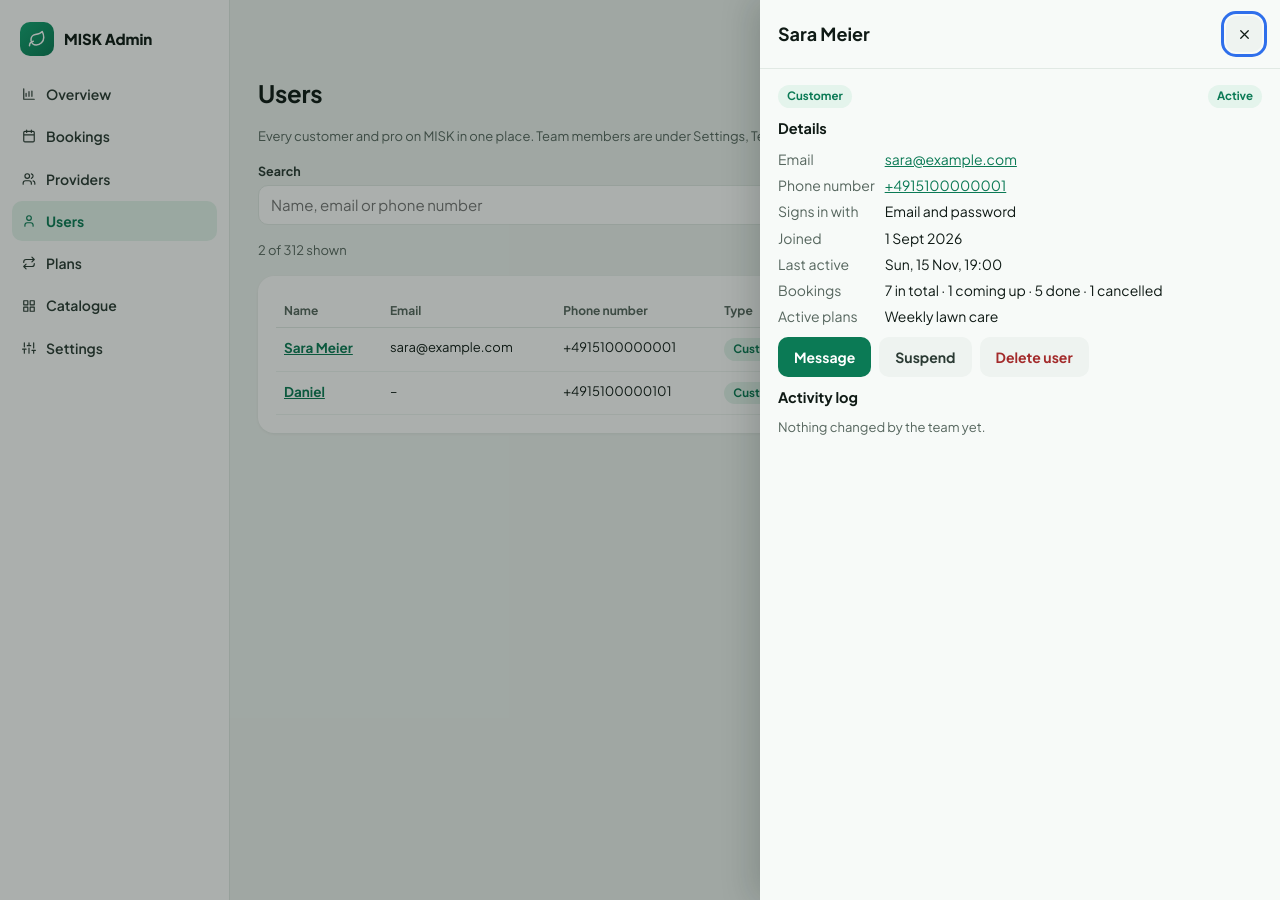
Test: the Users page (D65) › deletes an account only after a confirmation with a reason, and then offers nothing more
The image size is (1280, 900).
Click the button "Delete user".
click(1034, 357)  # box [980,337,1089,377]
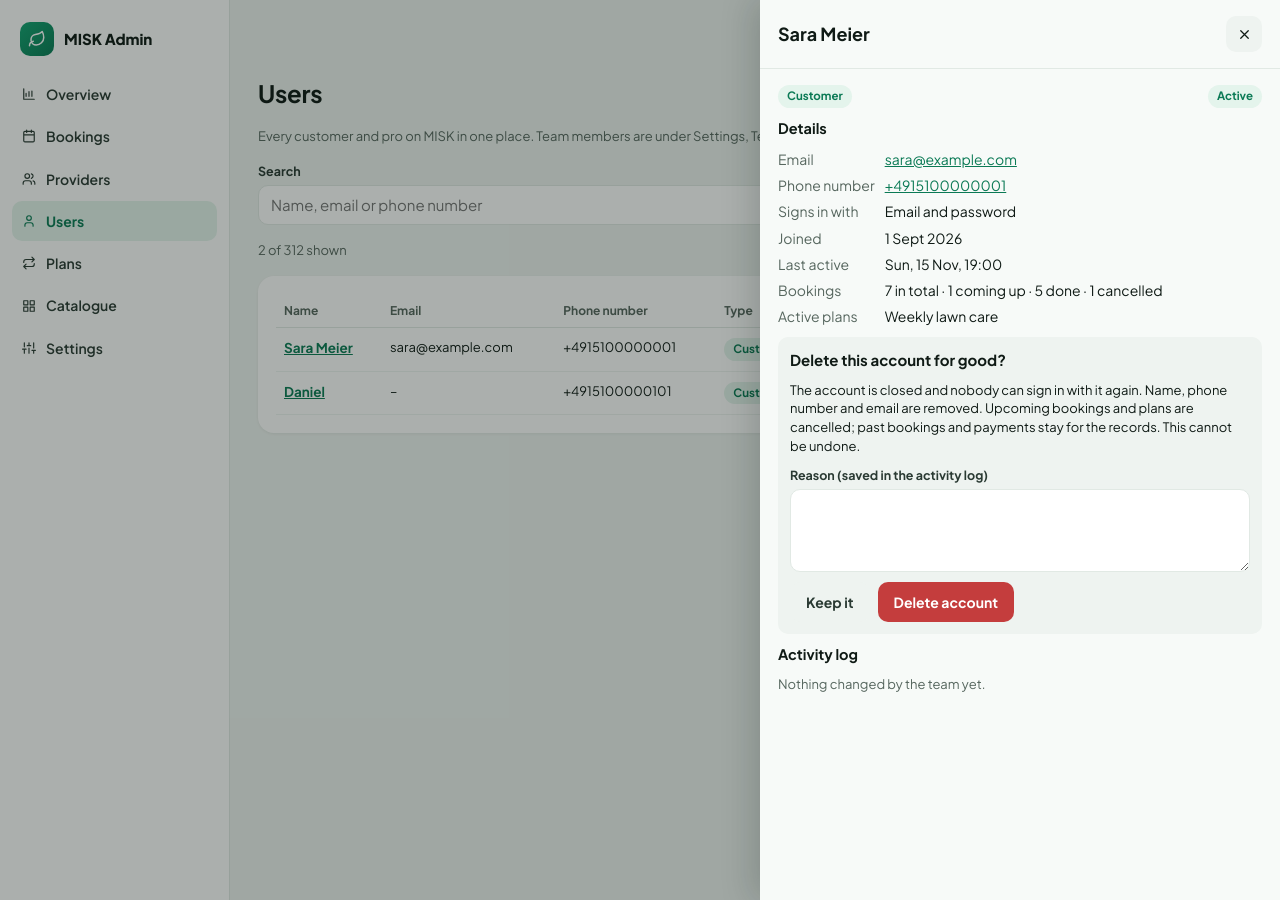
Check: the dialog "Delete this account for good?" shows "This cannot be undone.", box [790,382,1232,454]
Type "Asked to be removed" into the text box labelled "Reason (saved in the activity log)".
click(1020, 531); type("Asked to be removed")  # box [790,489,1250,572]
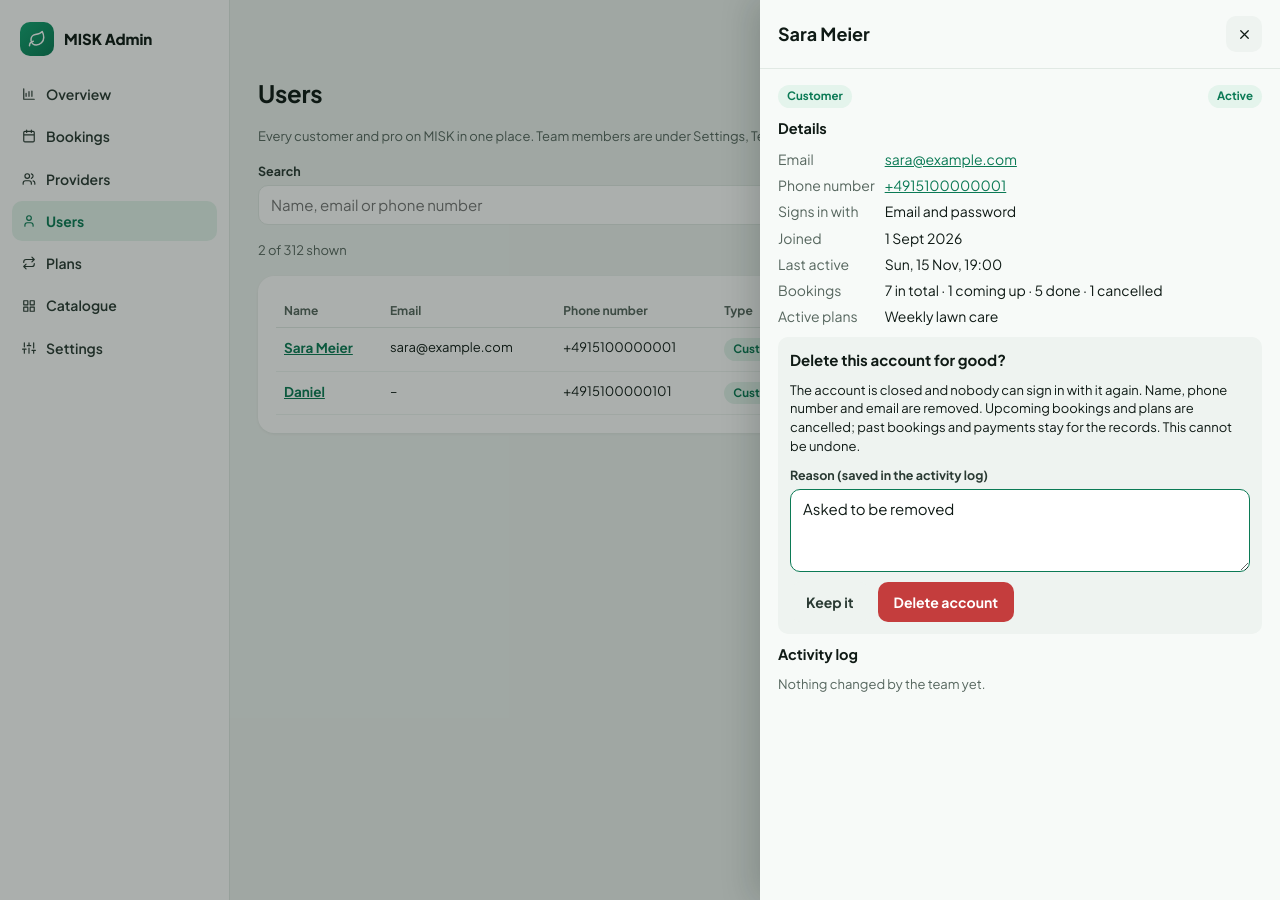
Click the button "Delete account".
click(946, 602)  # box [878,582,1014,622]
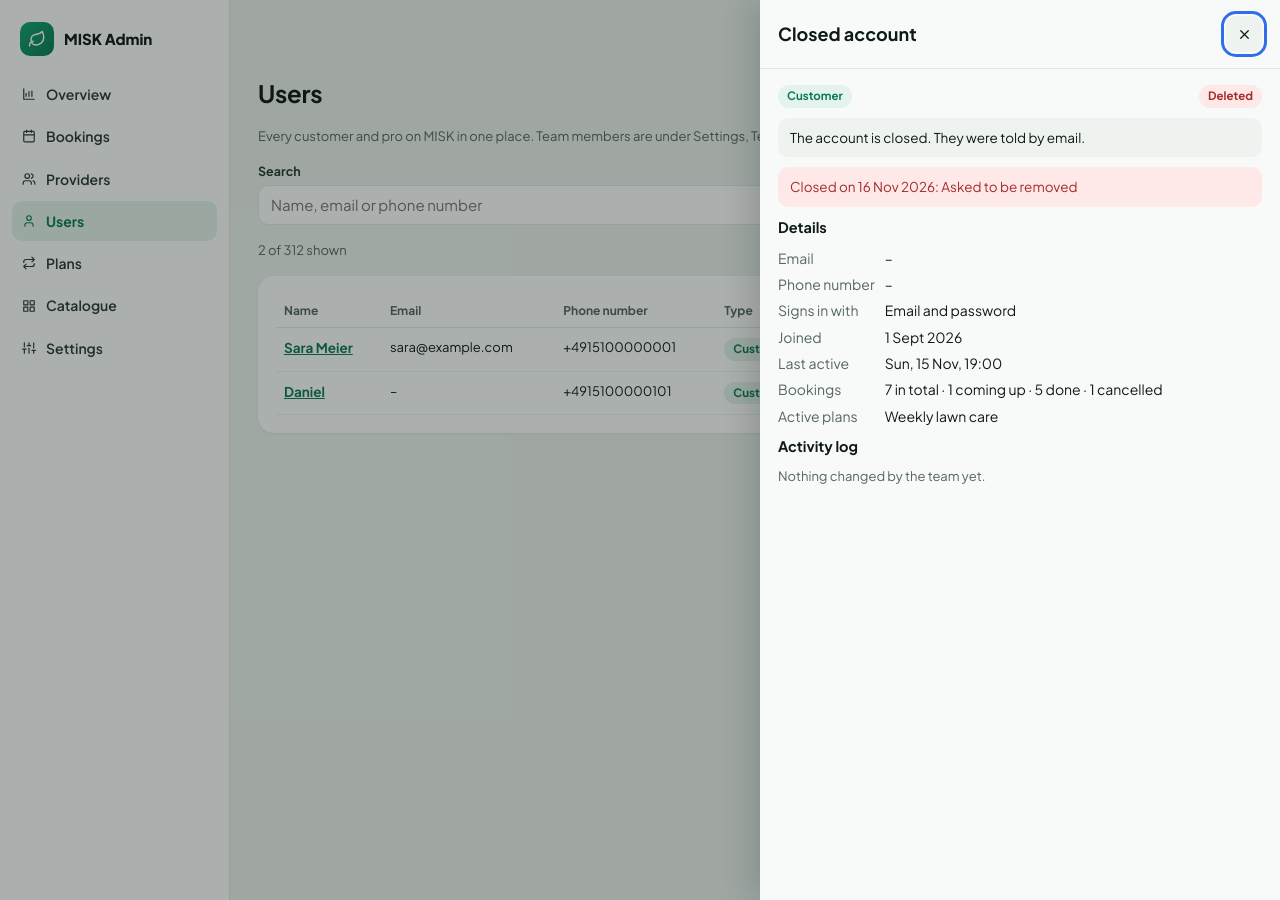
Check: the button "Message" is not shown
Check: the text "Closed on 16 Nov 2026: Asked to be removed" is shown, box [778,167,1262,207]
Check: the text "The account is closed. They were told by email." is shown, box [790,129,1085,146]
